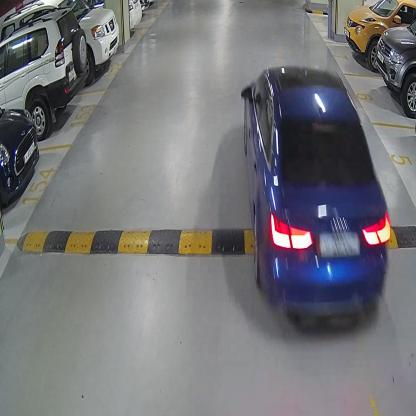np: (316, 229, 361, 259)
